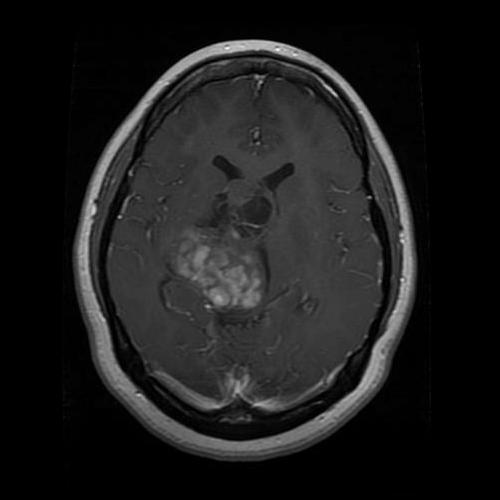Tumour-Glioma: (172, 214, 284, 325)
